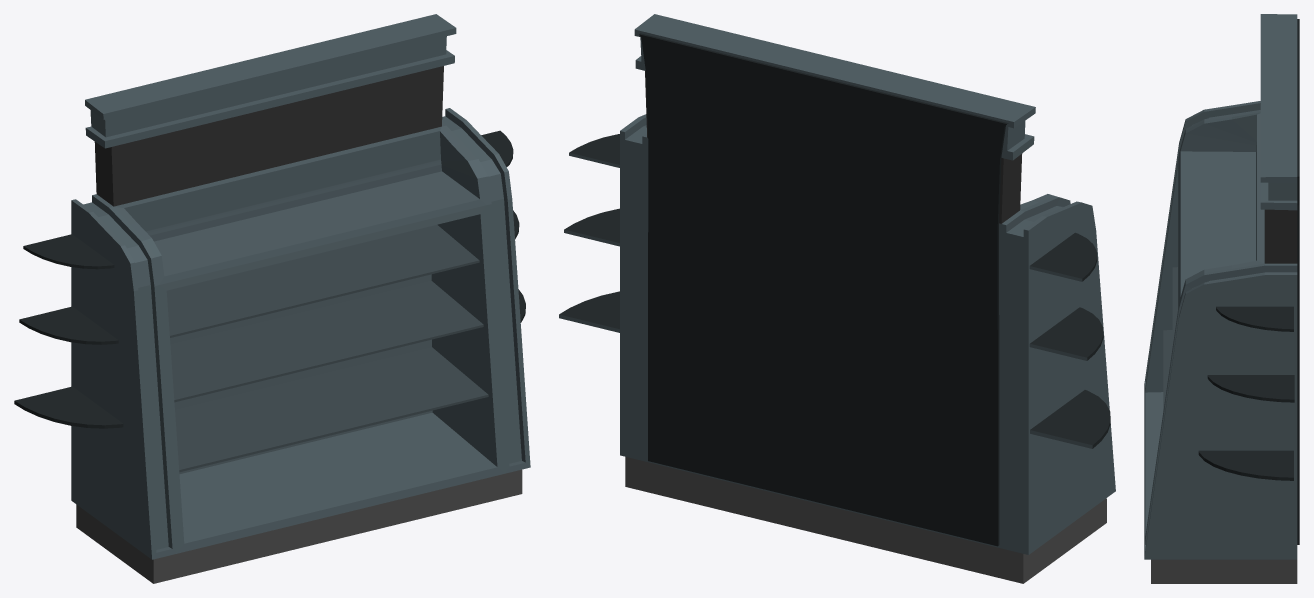
File: One Sided Shelving Med #2.fbx
3 renders of one model, left to right at view 1: azimuth 30°, elevation 25°; view 2: azimuth 150°, elevation 25°; view 3: azimuth 270°, elevation 25°, orthographic. The views are drawn at different scales.
Visible parts, largest first — view 1: One Sided Shelving Med #2; view 2: One Sided Shelving Med #2; view 3: One Sided Shelving Med #2.
Part boxes in pixels (x1=…): One Sided Shelving Med #2: x1=14, y1=14, x2=530, y2=583; One Sided Shelving Med #2: x1=559, y1=14, x2=1115, y2=583; One Sided Shelving Med #2: x1=1144, y1=14, x2=1299, y2=583.
Size of the model in its own units: 195 by 160 by 56.08.
Materials: 2 (2 with a texture image).
